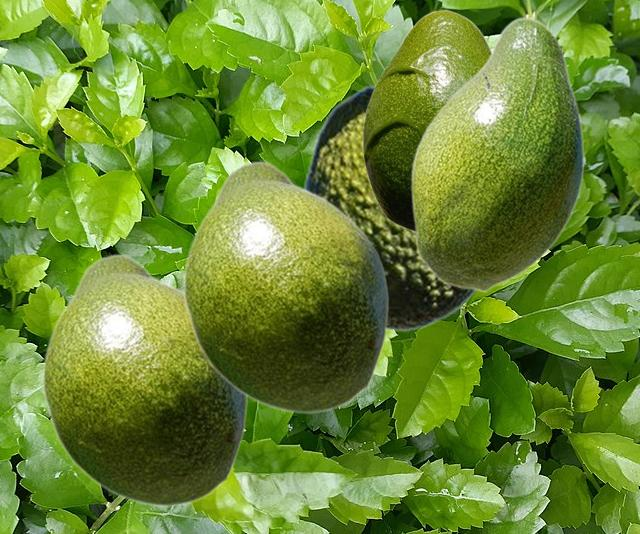avocado: (41, 253, 247, 507), (182, 160, 388, 414), (410, 16, 584, 291), (300, 83, 478, 331), (362, 9, 491, 231)
